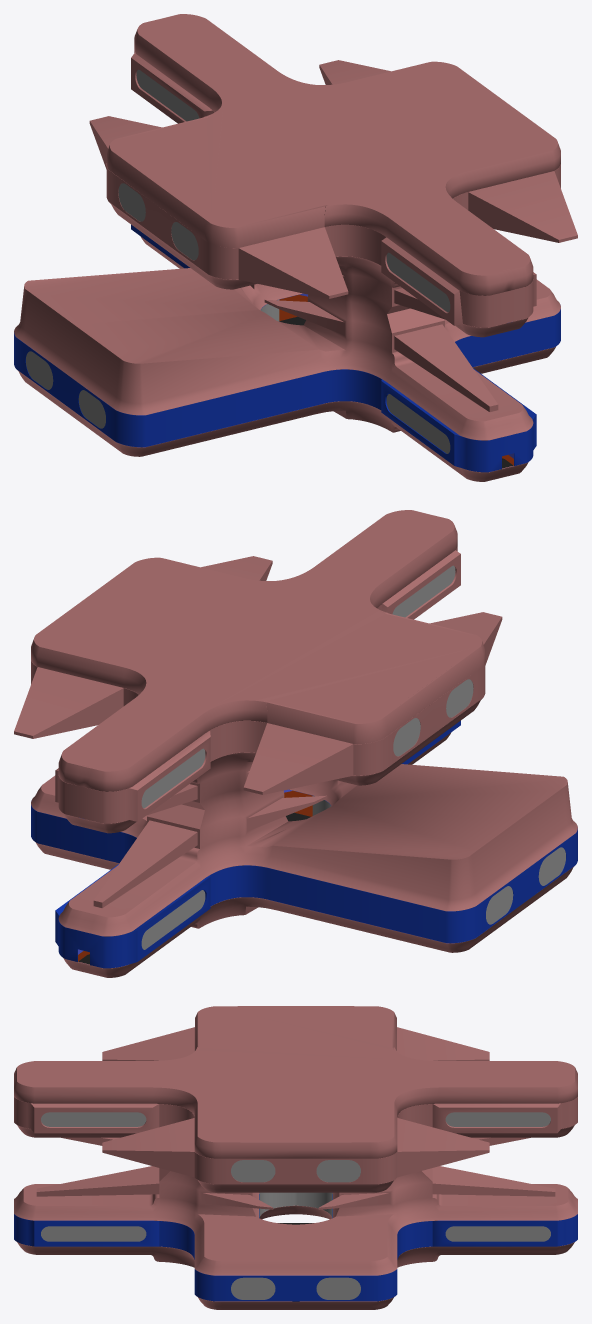
Rendered from SS Module 2.FBX.
The picture shows the model from 3 angles, top to bottom: view 1: azimuth 30°, elevation 25°; view 2: azimuth 150°, elevation 25°; view 3: azimuth 270°, elevation 25°; orthographic projection. The views are drawn at different scales.
Parts seen in each view (by area): view 1: Plane093; view 2: Plane093; view 3: Plane093.
Boxes of the visible parts, left/top/right/bottom form: Plane093: left=14, top=14, right=577, bottom=481; Plane093: left=14, top=510, right=577, bottom=977; Plane093: left=14, top=1006, right=577, bottom=1309.
Bounding box in the file's own units: 145 × 68.67 × 198.
